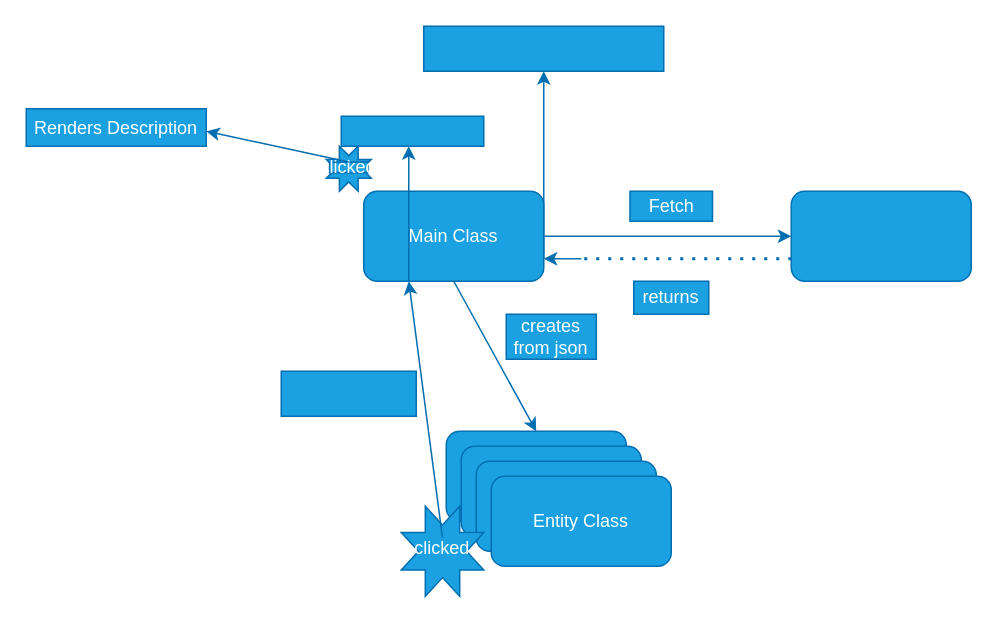
The diagram is 998 pixels wide and 623 high, and some of its shapes have lost their labels. The box of each missing label's shape, as (x1, y1, x2, y2) in pixels:
callback/custom event: (280, 370, 416, 416)
example.json: (790, 190, 971, 281)
Renders Images: (340, 115, 484, 146)
Renders Names of entities: (422, 25, 664, 71)
